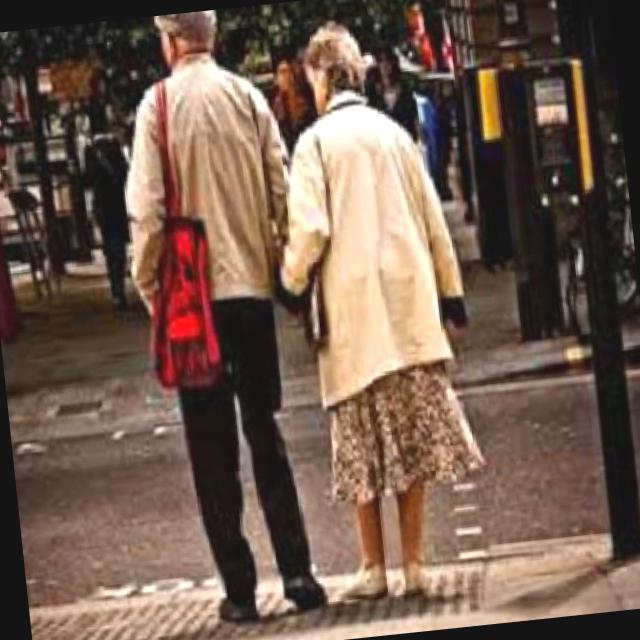Person: (104, 5, 326, 638), (274, 2, 496, 610)
